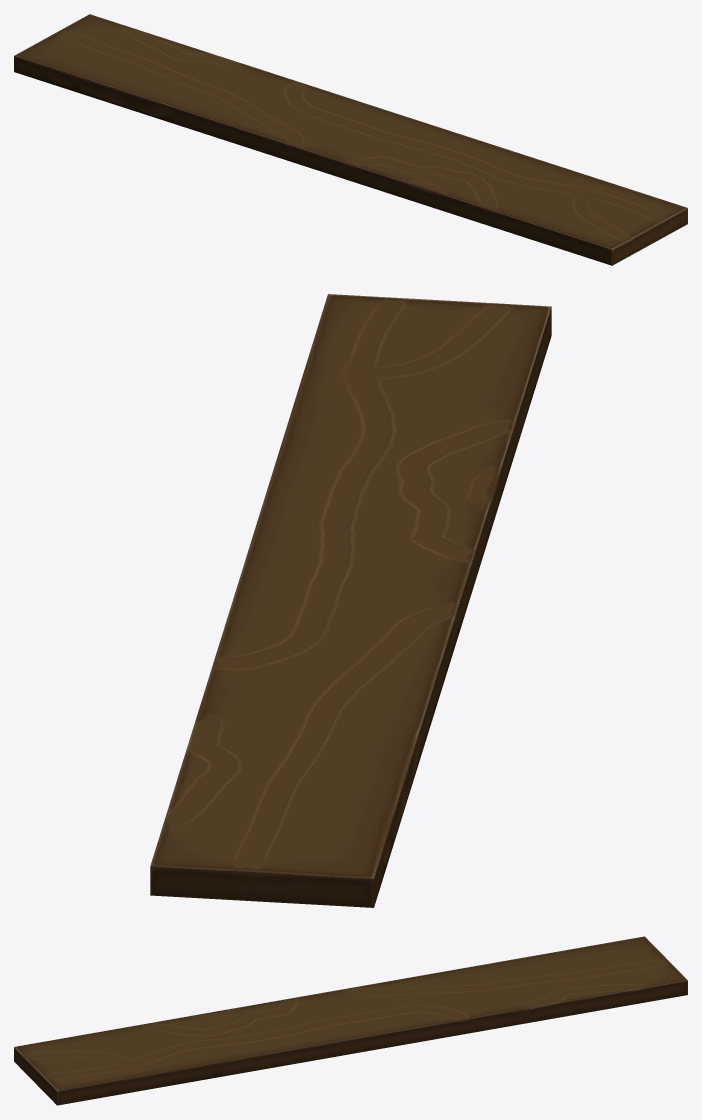
File: BridgePlank.fbx
3 renders of one model, top to bottom at view 1: azimuth 30°, elevation 25°; view 2: azimuth 150°, elevation 25°; view 3: azimuth 270°, elevation 25°, orthographic. The views are drawn at different scales.
Visible parts, largest first — view 1: Boards_LOW.001; view 2: Boards_LOW.001; view 3: Boards_LOW.001.
Boxes of the visible parts, box(x1,y1,x2,y2) form: Boards_LOW.001: box(14, 14, 687, 265); Boards_LOW.001: box(150, 294, 551, 907); Boards_LOW.001: box(14, 936, 687, 1105).
Bounding box in the file's own units: 160 × 7.06 × 295.
Materials: 1 (1 with a texture image).
